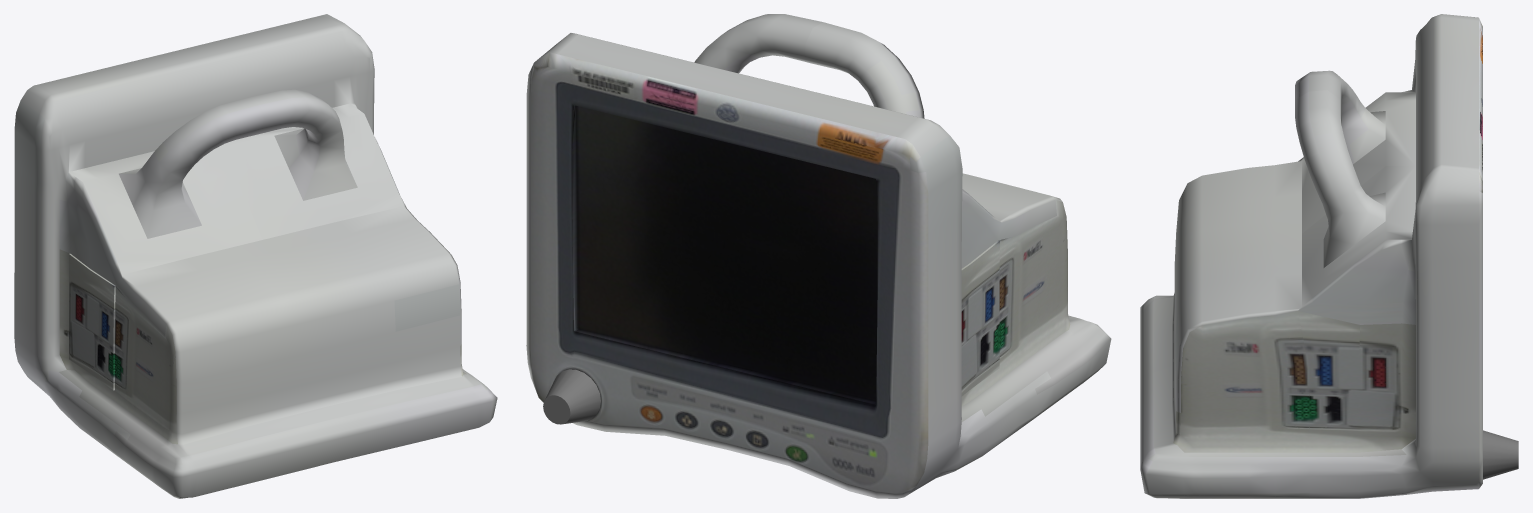
Rendered from monitor.fbx.
3 renders of one model, left to right at view 1: azimuth 30°, elevation 25°; view 2: azimuth 150°, elevation 25°; view 3: azimuth 270°, elevation 25°, orthographic. The views are drawn at different scales.
Parts seen in each view (by area): view 1: monitor:EVACSIM_EKG_2014:monitor; view 2: monitor:EVACSIM_EKG_2014:monitor, monitor:EVACSIM_EKG_2014:knob; view 3: monitor:EVACSIM_EKG_2014:monitor, monitor:EVACSIM_EKG_2014:knob.
Boxes of the visible parts, left/top/right/bottom form: monitor:EVACSIM_EKG_2014:monitor: left=14, top=14, right=497, bottom=498; monitor:EVACSIM_EKG_2014:monitor: left=526, top=14, right=1111, bottom=498; monitor:EVACSIM_EKG_2014:knob: left=543, top=369, right=600, bottom=424; monitor:EVACSIM_EKG_2014:monitor: left=1140, top=14, right=1482, bottom=498; monitor:EVACSIM_EKG_2014:knob: left=1483, top=430, right=1518, bottom=479.
Size of the model in its own units: 3.92 by 3.45 by 3.56.
3 materials, 1 textured.
